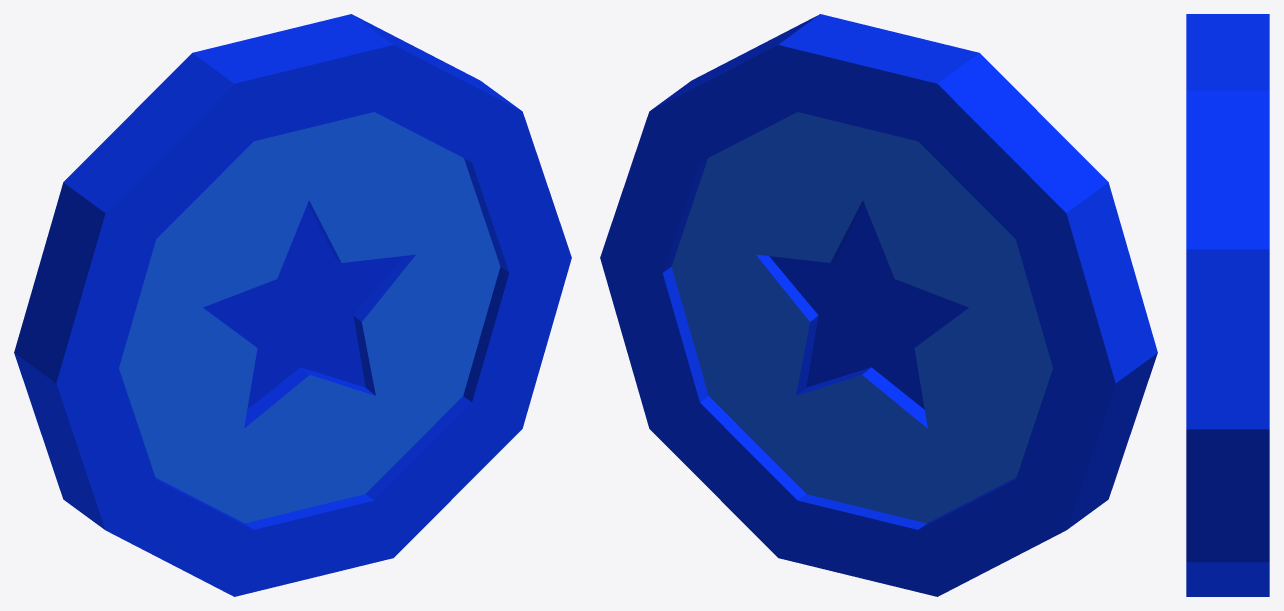
The model's file is Coin_b.fbx.
3 renders of one model, left to right at view 1: azimuth 30°, elevation 25°; view 2: azimuth 150°, elevation 25°; view 3: azimuth 270°, elevation 25°, orthographic.
Parts seen in each view (by area): view 1: Coin_b; view 2: Coin_b; view 3: Coin_b.
Boxes of the visible parts, x1=… form: Coin_b: x1=14, y1=14, x2=571, y2=596; Coin_b: x1=600, y1=14, x2=1157, y2=596; Coin_b: x1=1186, y1=14, x2=1269, y2=596.
Size of the model in its own units: 9.71 by 9.23 by 1.38.
